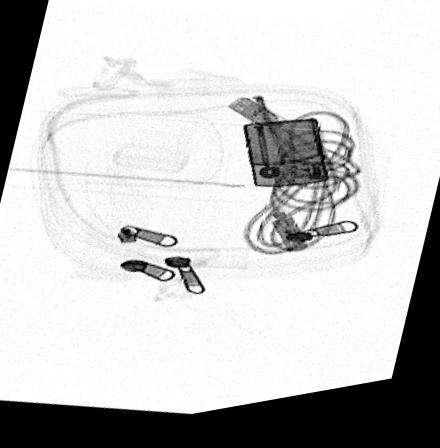Lighter: (241, 128, 329, 196)
